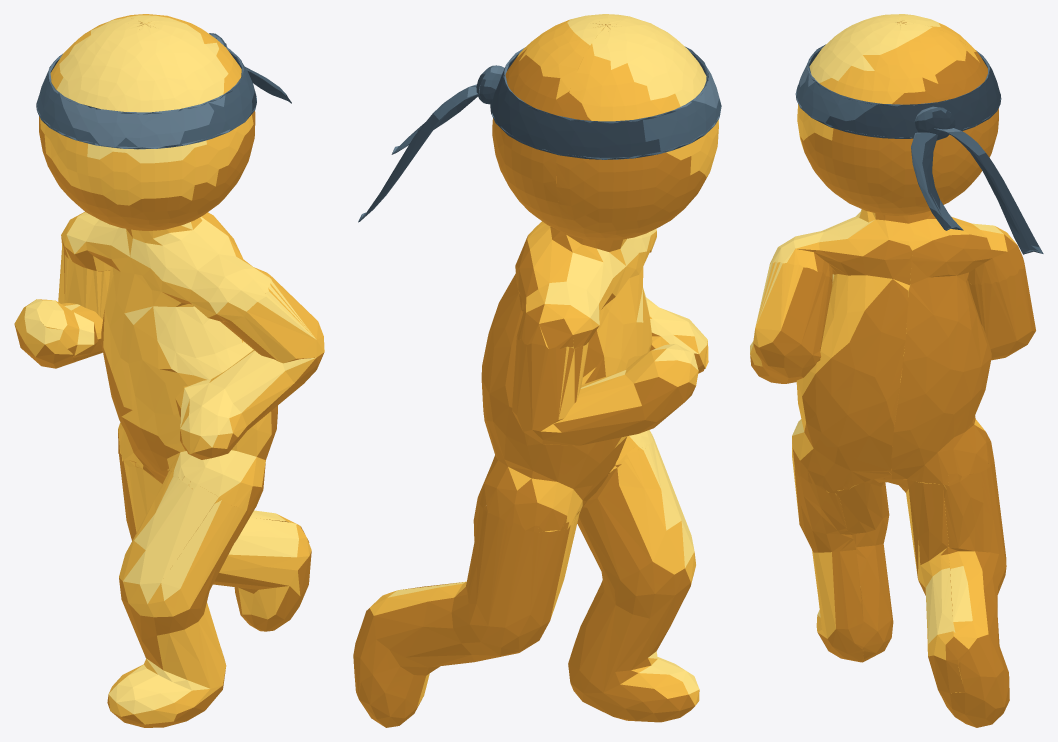
Rendered from Ninja_Jog2_L.gltf.
3 renders of one model, left to right at view 1: azimuth 30°, elevation 25°; view 2: azimuth 150°, elevation 25°; view 3: azimuth 270°, elevation 25°, orthographic. The views are drawn at different scales.
Visible parts, largest first — view 1: Ninja_Jog2_L_baked; view 2: Ninja_Jog2_L_baked; view 3: Ninja_Jog2_L_baked.
Boxes of the visible parts, x1,y1,x2,y2 form: Ninja_Jog2_L_baked: (14, 14, 324, 727); Ninja_Jog2_L_baked: (353, 14, 721, 727); Ninja_Jog2_L_baked: (750, 14, 1043, 727).
Bounding box in the file's own units: 0.4635 × 1 × 0.4214.
